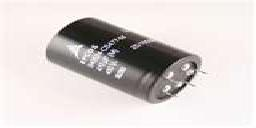Electrolytic Capacitor: (41, 15, 216, 107)
